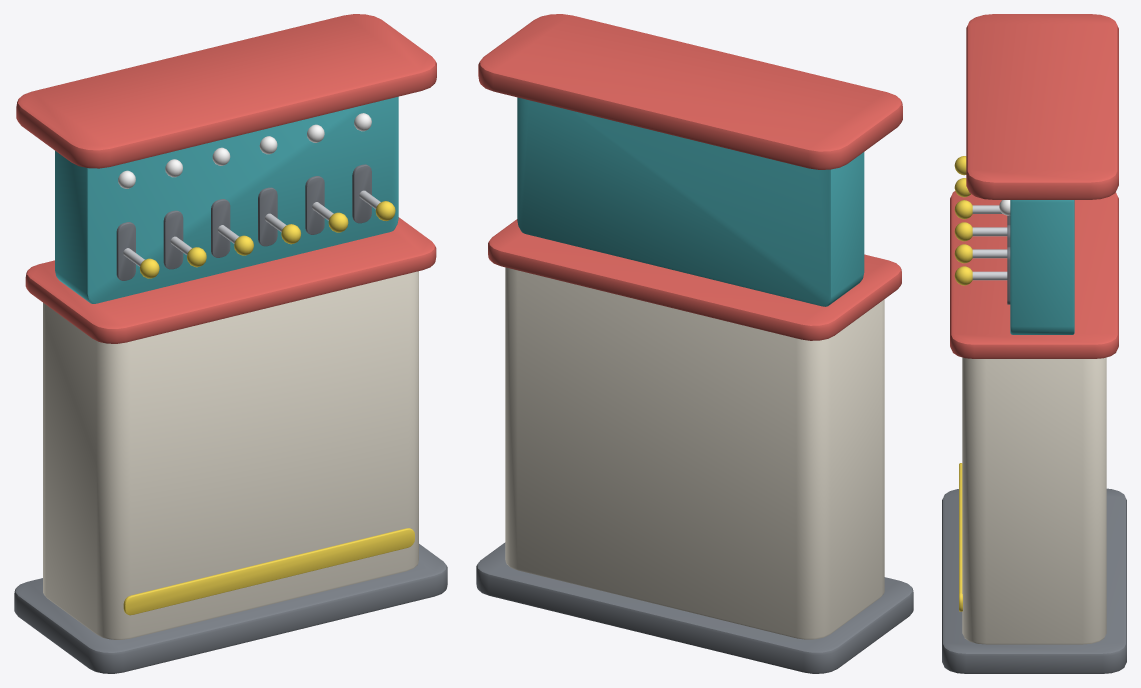
Rendered from SM_IncRideConsole.fbx.
3 views of the same model, side by side, from view 1: azimuth 30°, elevation 25°; view 2: azimuth 150°, elevation 25°; view 3: azimuth 270°, elevation 25° (orthographic). The views are drawn at different scales.
Parts seen in each view (by area): view 1: IncRideConsole; view 2: IncRideConsole; view 3: IncRideConsole, Switch5, Switch3, Switch4, Switch2.
Part boxes in pixels (left/top/right/bottom): IncRideConsole: left=14, top=14, right=447, bottom=673; IncRideConsole: left=476, top=14, right=913, bottom=673; IncRideConsole: left=942, top=14, right=1126, bottom=673; Switch5: left=954, top=266, right=1007, bottom=285; Switch3: left=954, top=222, right=1007, bottom=241; Switch4: left=954, top=244, right=1007, bottom=263; Switch2: left=954, top=200, right=1002, bottom=219.
Bounding box in the file's own units: 1 × 1.36 × 0.46.
